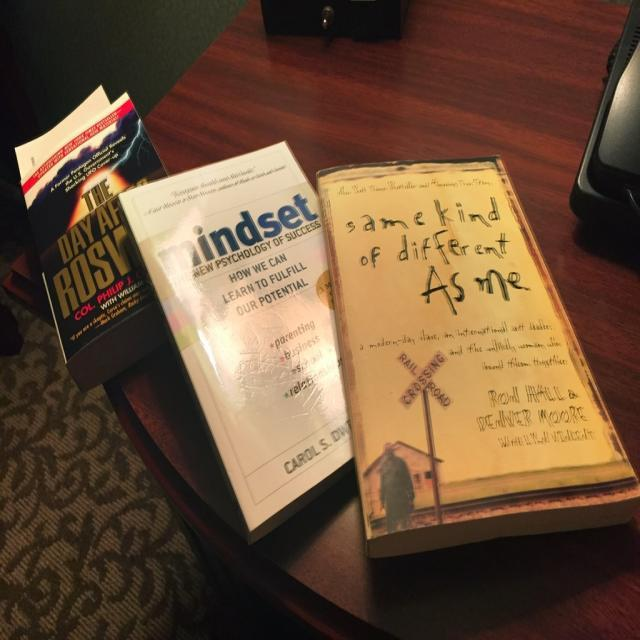book: (316, 159, 640, 564), (133, 137, 362, 527), (18, 81, 173, 397)
